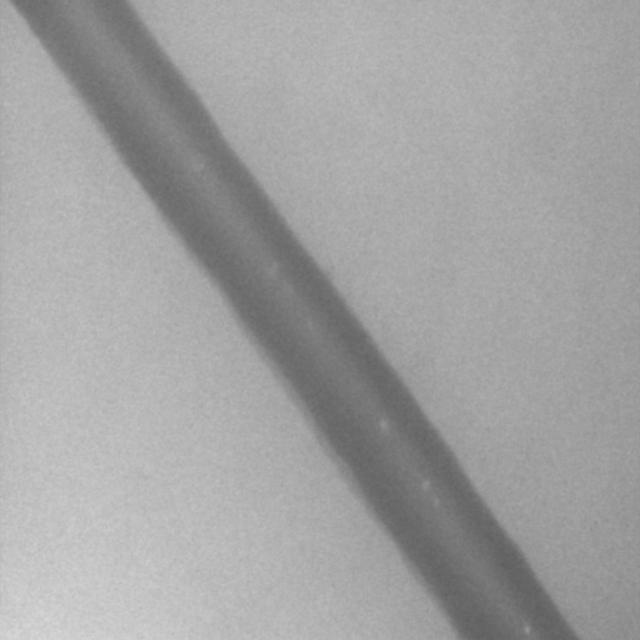air hole: (377, 415, 388, 431), (521, 620, 532, 635)
